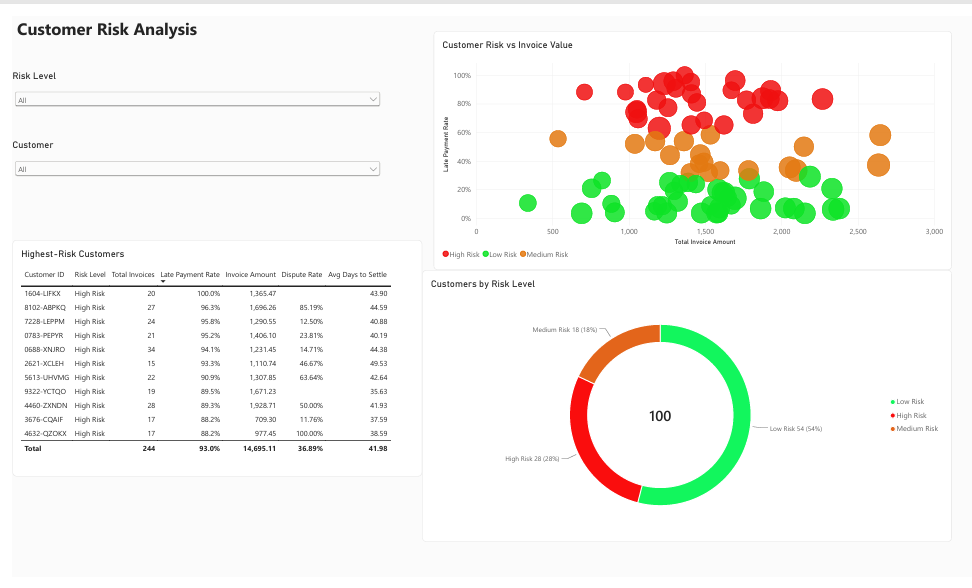

The dashboard page shown, as its layout file describes it:
{"tool":"powerbi","page":{"name":"Customer Risk","canvas":[1920,1080],"ordinal":1},"visuals":[{"type":"tableEx","title":"Top 10 High-Risk Customers","fields":{"Values":["vw_customer_risk_summary.customer_id","vw_customer_risk_summary.customer_risk_level","ar_transactions_clean.Total Invoices","ar_transactions_clean.Late Payment Rate","ar_transactions_clean.Total Invoice Amount","ar_transactions_clean.Dispute Rate","ar_transactions_clean.Average Days to Settle"]},"box":[0,430.9,788.7,456.1],"z":0},{"type":"donutChart","title":"Customers by Risk Level","fields":{"Category":["vw_customer_risk_summary.customer_risk_level"],"Y":["vw_customer_risk_summary.Total Customers"]},"box":[788.7,488.8,1020.5,524.1],"z":1000},{"type":"slicer","title":"Risk Level","fields":{"Values":["vw_customer_risk_summary.customer_risk_level"]},"box":[0,103.3,713.1,133.5],"z":2000},{"type":"slicer","title":"Customer","fields":{"Values":["vw_customer_risk_summary.customer_id"]},"box":[0,236.9,713.1,113.4],"z":3000},{"type":"scatterChart","title":"Customer Risk vs Invoice Value","fields":{"Category":["vw_customer_risk_summary.customer_id"],"Series":["vw_customer_risk_summary.customer_risk_level"],"Size":["ar_transactions_clean.Total Invoices"],"X":["ar_transactions_clean.Total Invoice Amount"],"Y":["ar_transactions_clean.Late Payment Rate"]},"box":[811.3,27.7,997.8,461.1],"z":4000},{"type":"textbox","box":[0,0,647.6,75.6],"z":5000}]}

Visuals, with their boxes on the page's 1920x1080 design canvas (x1, y1, x2, y2). These are canvas units, not pixel positions in the 972x588 screenshot, which may show the page scaled, cropped or inside an application window:
"Top 10 High-Risk Customers" tableEx: 0 431 789 887
"Customers by Risk Level" donutChart: 789 489 1809 1013
"Risk Level" slicer: 0 103 713 237
"Customer" slicer: 0 237 713 350
"Customer Risk vs Invoice Value" scatterChart: 811 28 1809 489
textbox: 0 0 648 76
